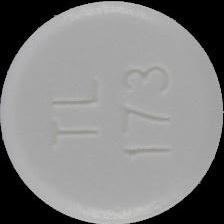63187-300: (0, 0, 224, 224)
